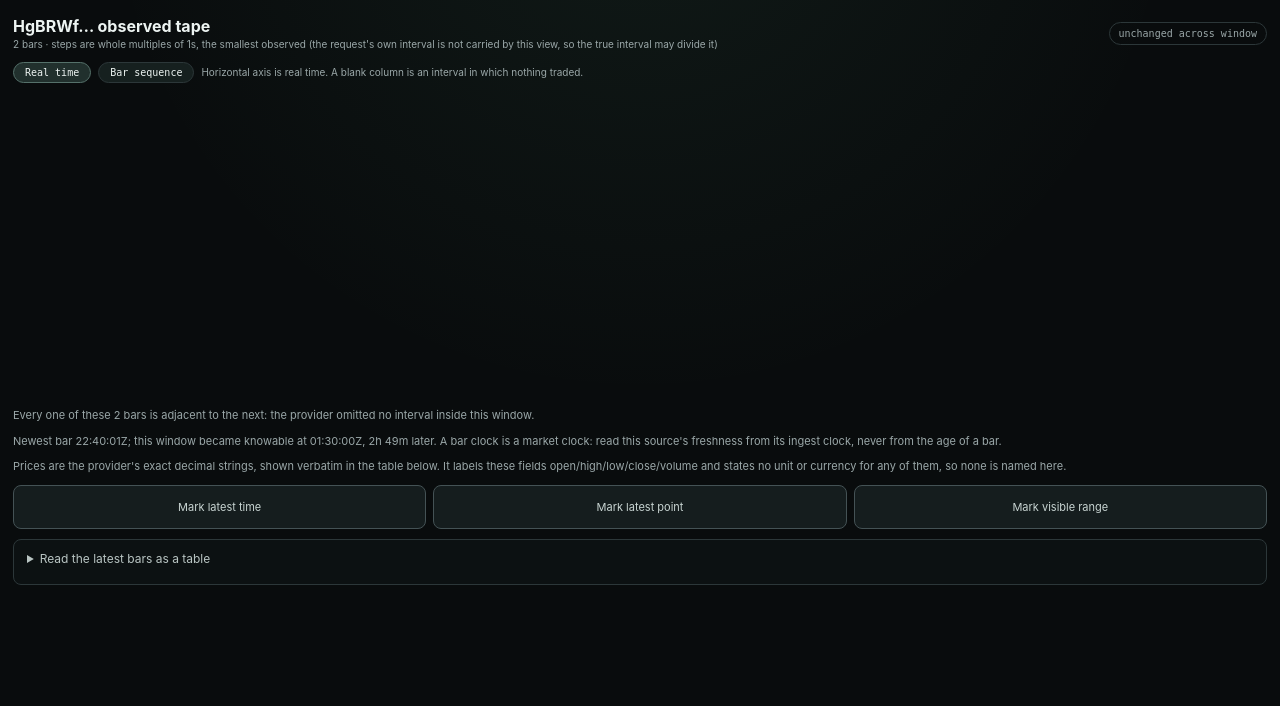
Test: MarketChart › prints the provider's exact decimal strings and never a float of them
The width and height of the screenshot is (1280, 706).
Step 1. Click the heading "Read the latest bars as a table" → (125, 558), box [40,550,210,566]
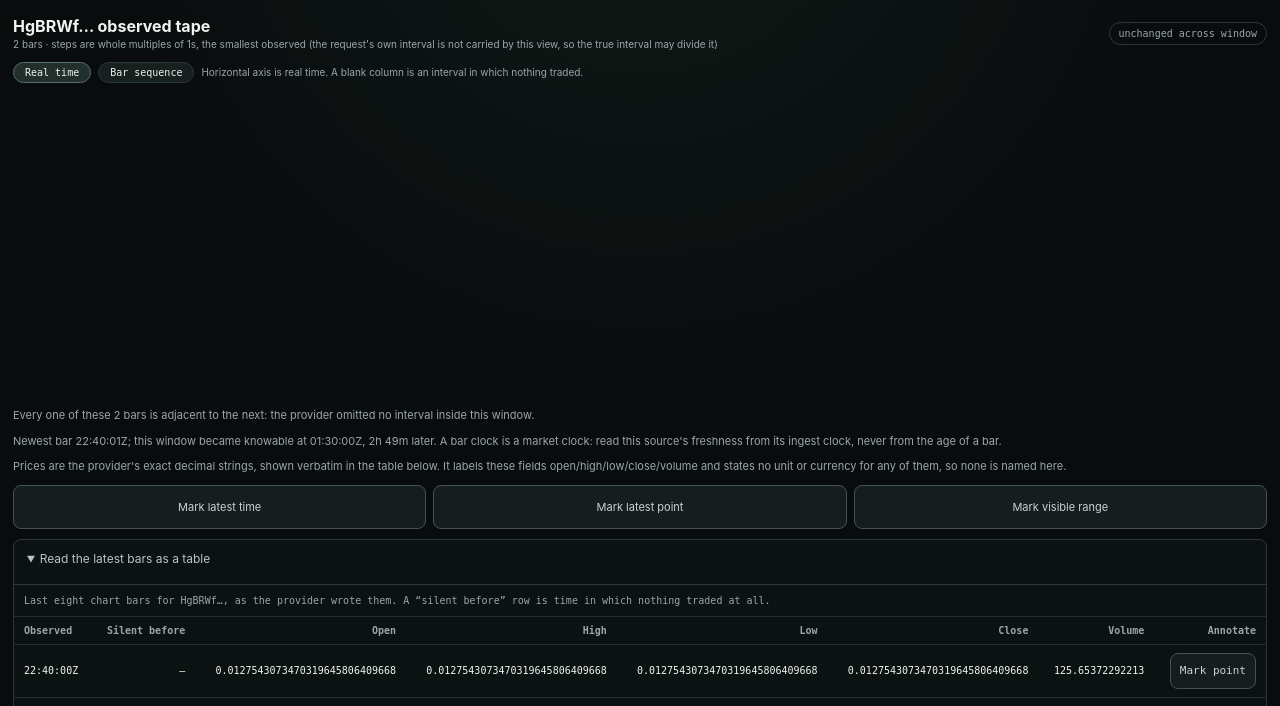
Expected: the 1st text "0.0127543073470319645806409668" is shown, [195,644,406,697]
